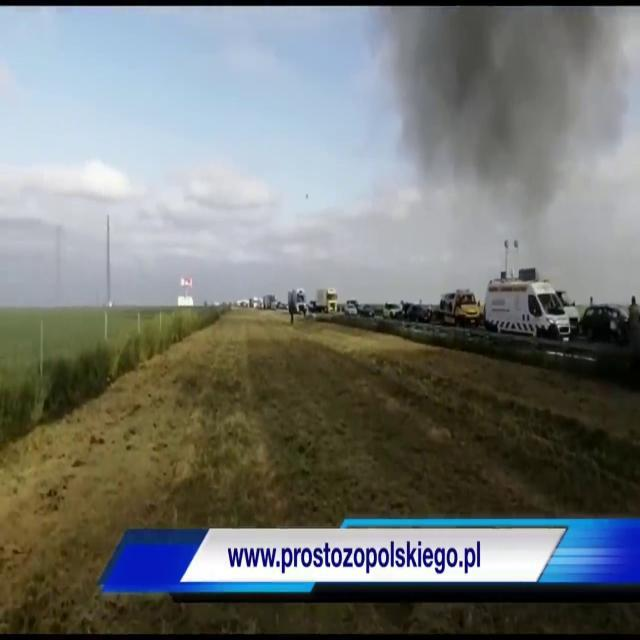Smoke: (391, 3, 609, 284)
